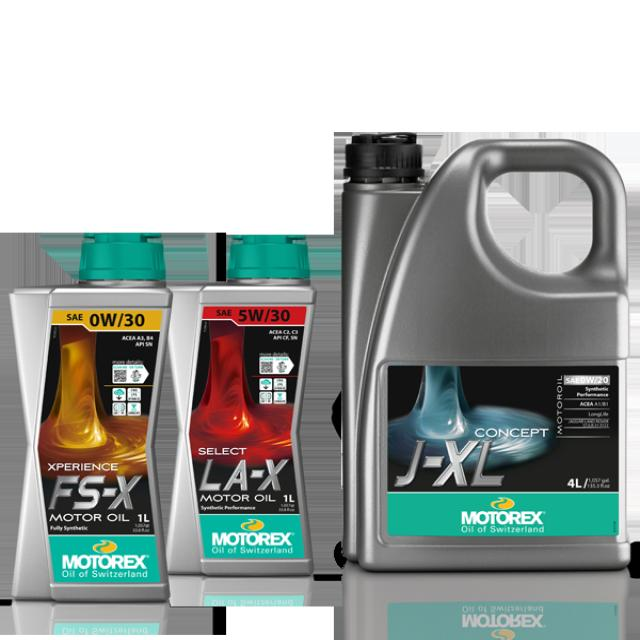motor_oil: (334, 127, 633, 581)
